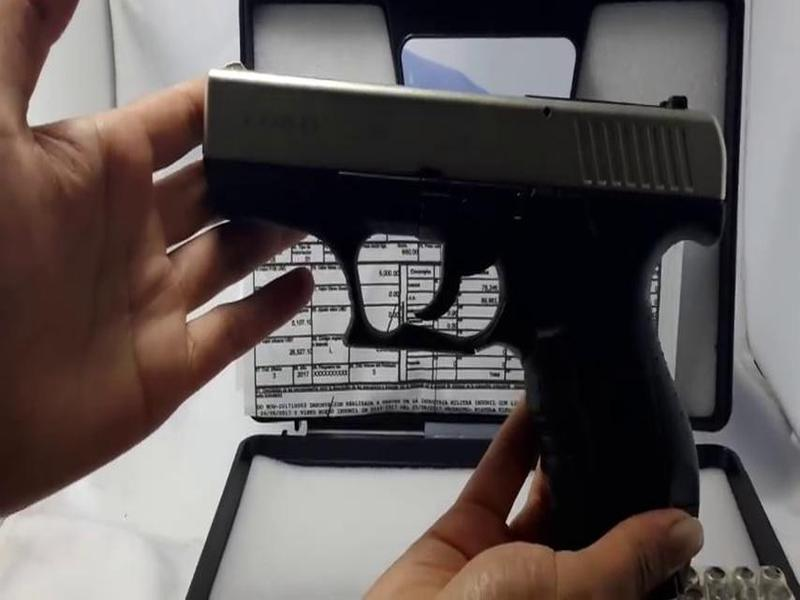Pistola: (191, 44, 794, 600)
